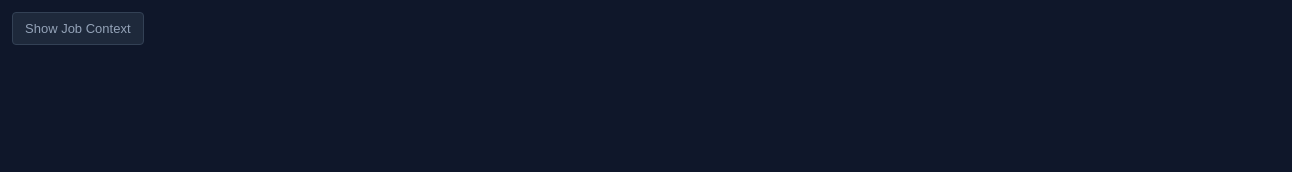
JobContextPanel › shows loading state while fetching
Click the button "Show Job Context" at (78, 28), box [12,12,144,45]
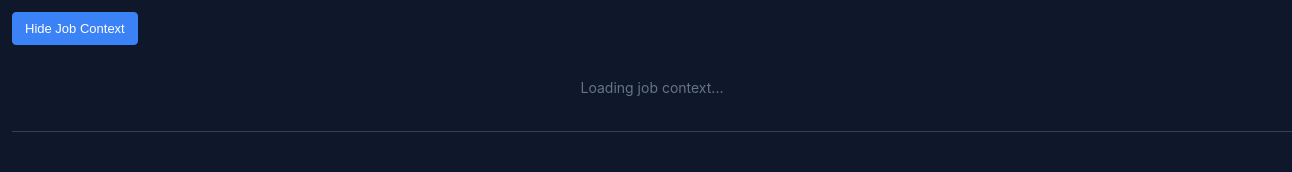
Result: the text "Loading job context..." is shown at [580,79,723,96]
